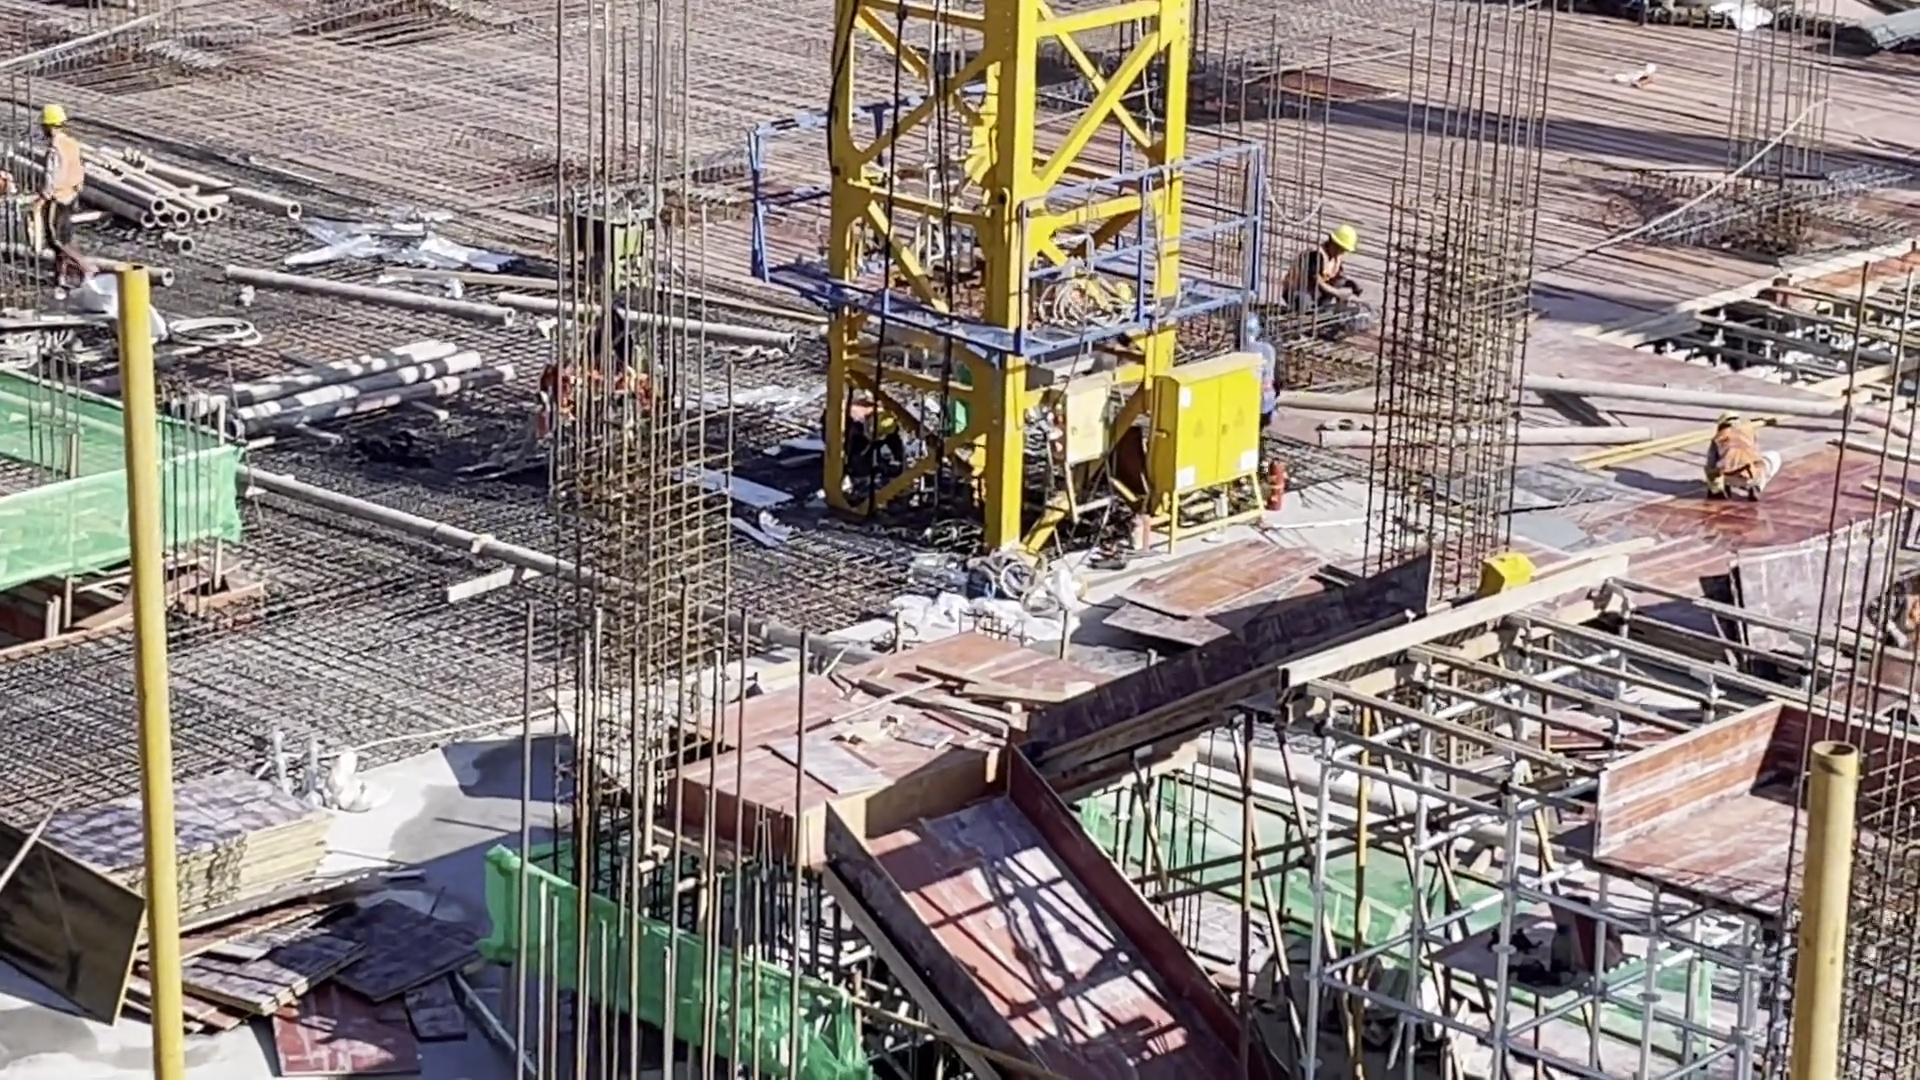board: (181, 902, 494, 1074), (30, 773, 333, 934)
ebox: (1155, 350, 1265, 547), (1046, 379, 1127, 558), (1475, 549, 1539, 597)
helmet: (34, 102, 71, 133), (1329, 225, 1358, 252)
person: (25, 105, 88, 272), (1283, 223, 1362, 326), (1702, 418, 1787, 499)
vest: (35, 139, 83, 213), (1710, 432, 1760, 487)
